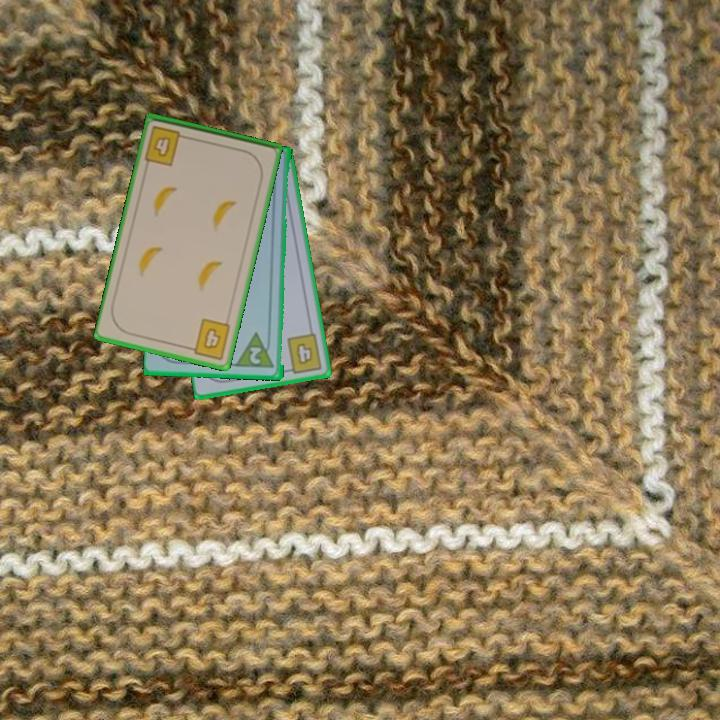2p: (246, 343, 264, 367)
4b: (141, 122, 192, 169), (184, 315, 234, 362), (282, 330, 325, 376)
